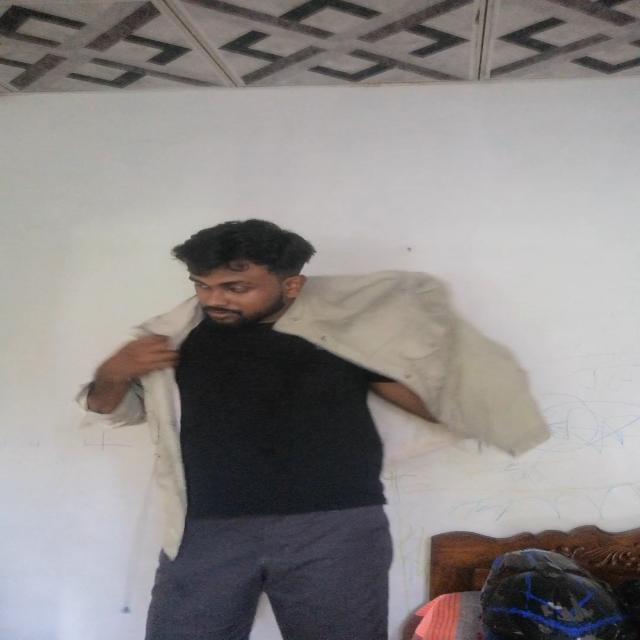Jacket_Wearer: (80, 274, 548, 516)
Person: (70, 214, 550, 640)
